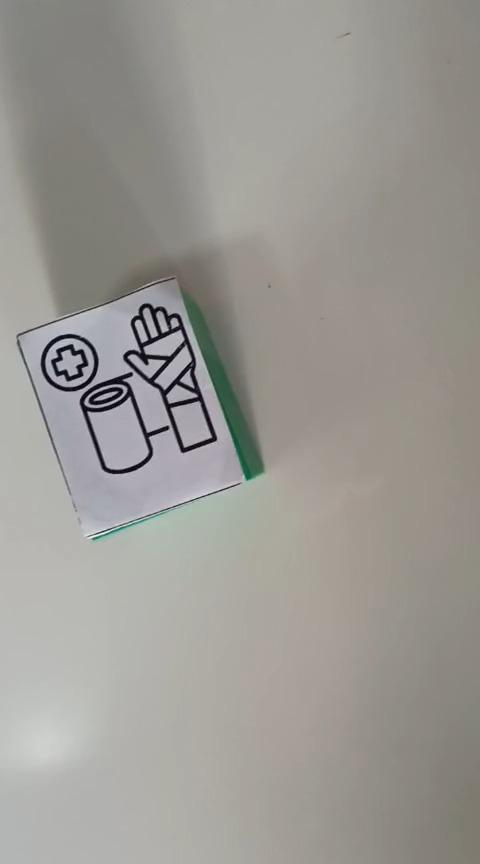Bandages: (15, 274, 265, 540)
